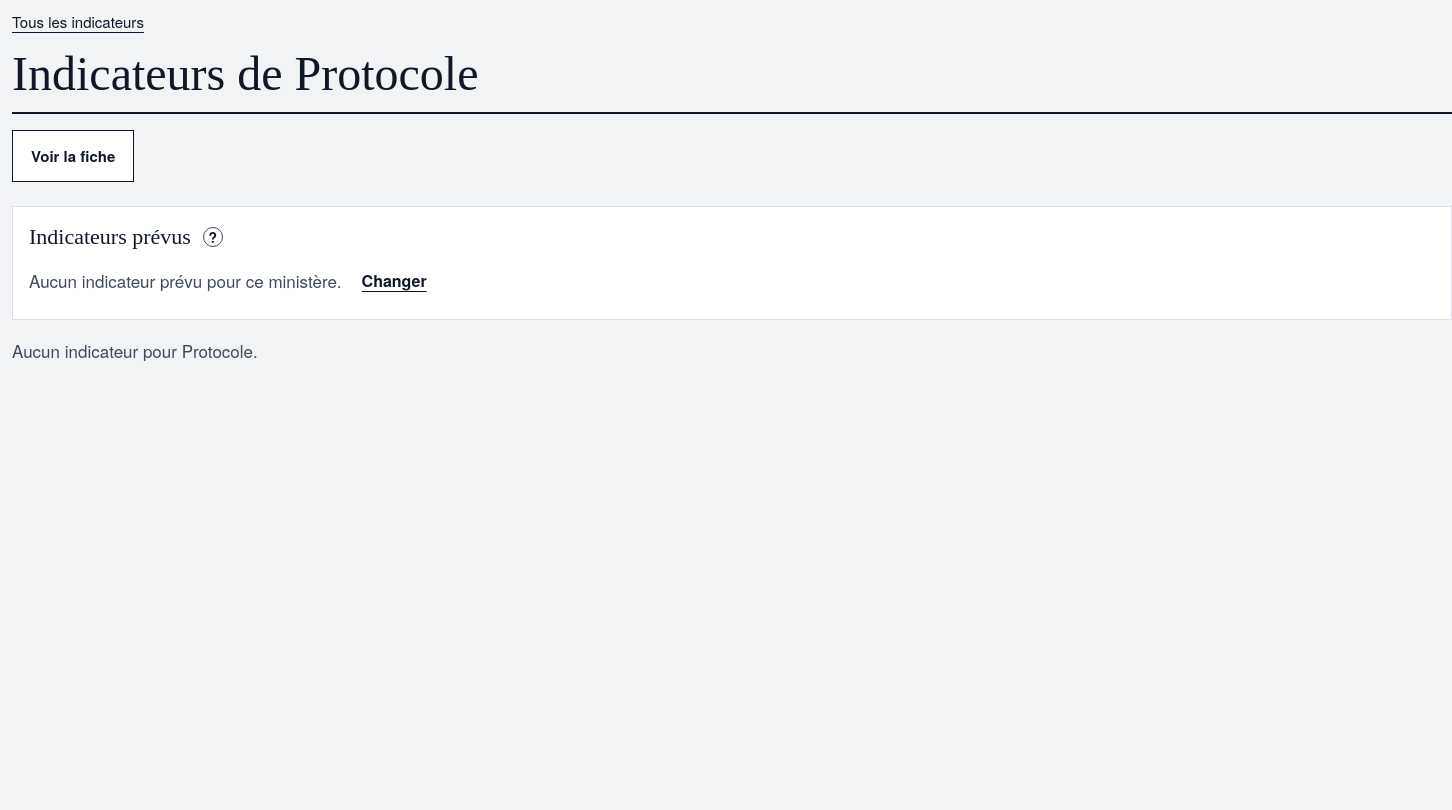
Test: VueIndicateursMinistere : bloc « Indicateurs prévus » › « Aucun prévu » enregistré : la phrase et « Changer », qui rouvre le choix, puis « Annuler »
Expected: the text "Aucun indicateur prévu pour ce ministère." is shown, top-left (29, 268), bottom-right (342, 293)
Step 1. Click the button "Changer" → (394, 280), box top-left (362, 258), bottom-right (427, 302)
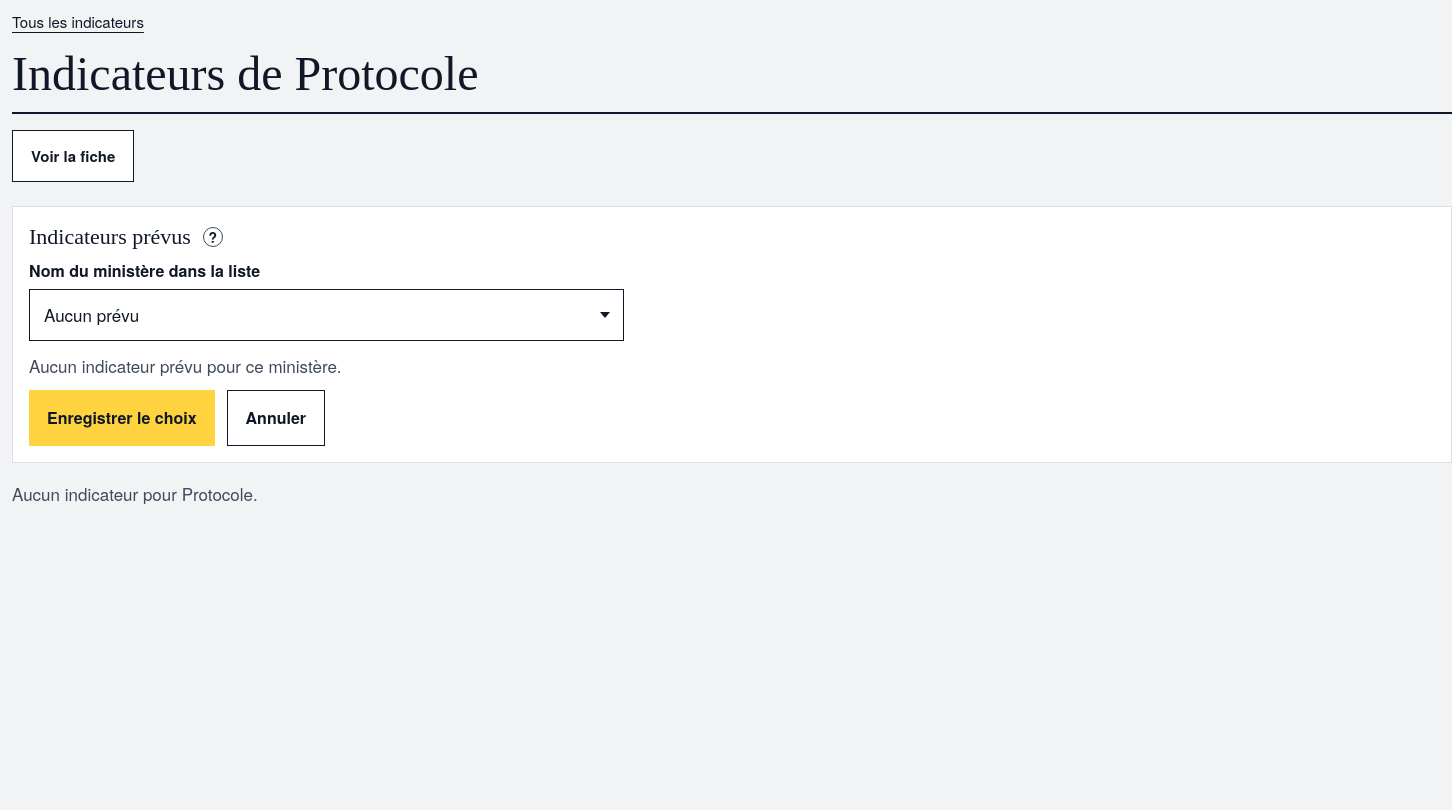
Result: the dropdown labelled "Nom du ministère dans la liste" shows "Aucun prévu" at top-left (29, 288), bottom-right (624, 340)
Note: « Annuler » referme le choix sans rien enregistrer.
Step 2. Click the button "Annuler" → (276, 418), box top-left (227, 390), bottom-right (325, 446)
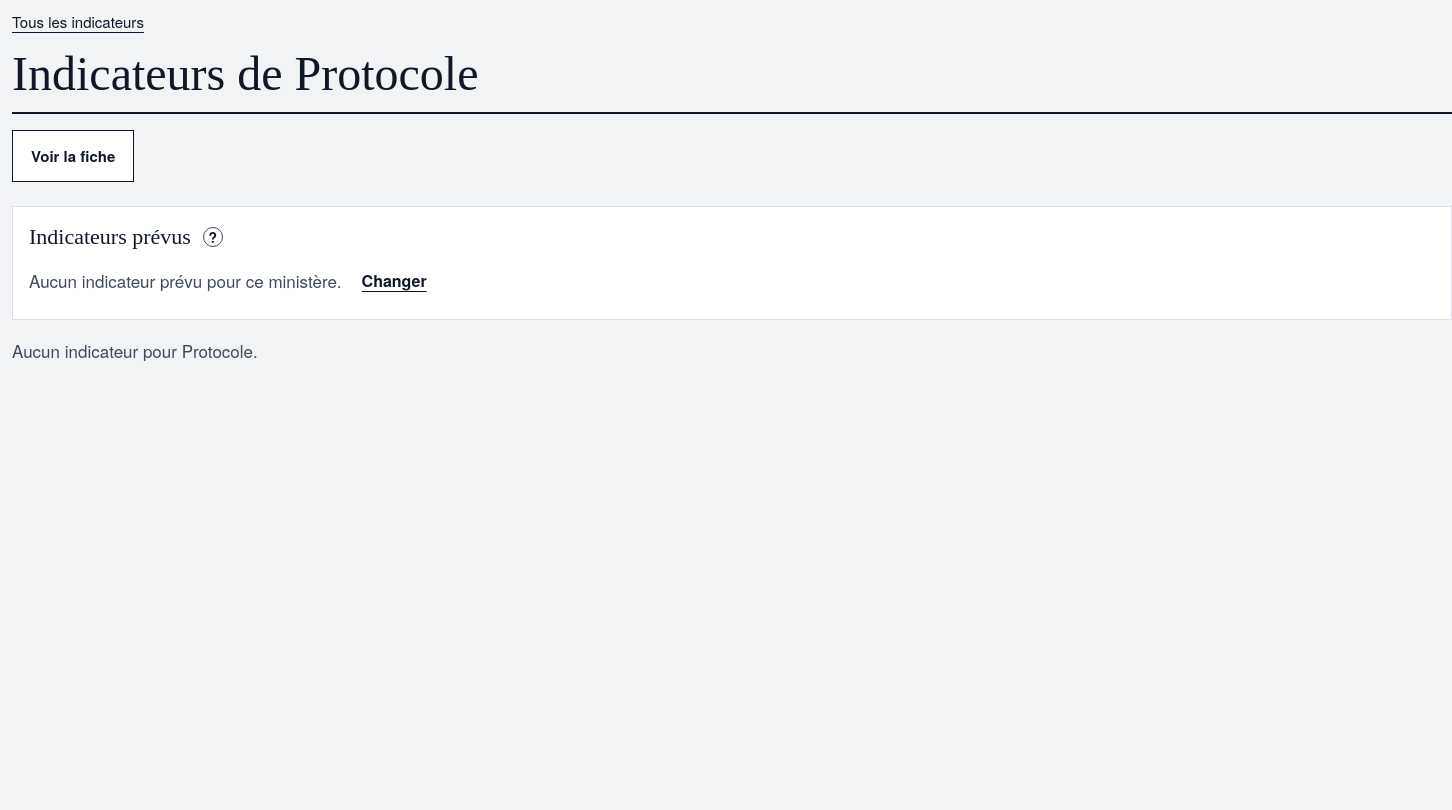
Result: the dropdown is gone
Note: Puis une liste, enregistrée : le choix se referme quand la base l'accepte.
Step 3. Click the button "Changer" → (394, 280), box top-left (362, 258), bottom-right (427, 302)
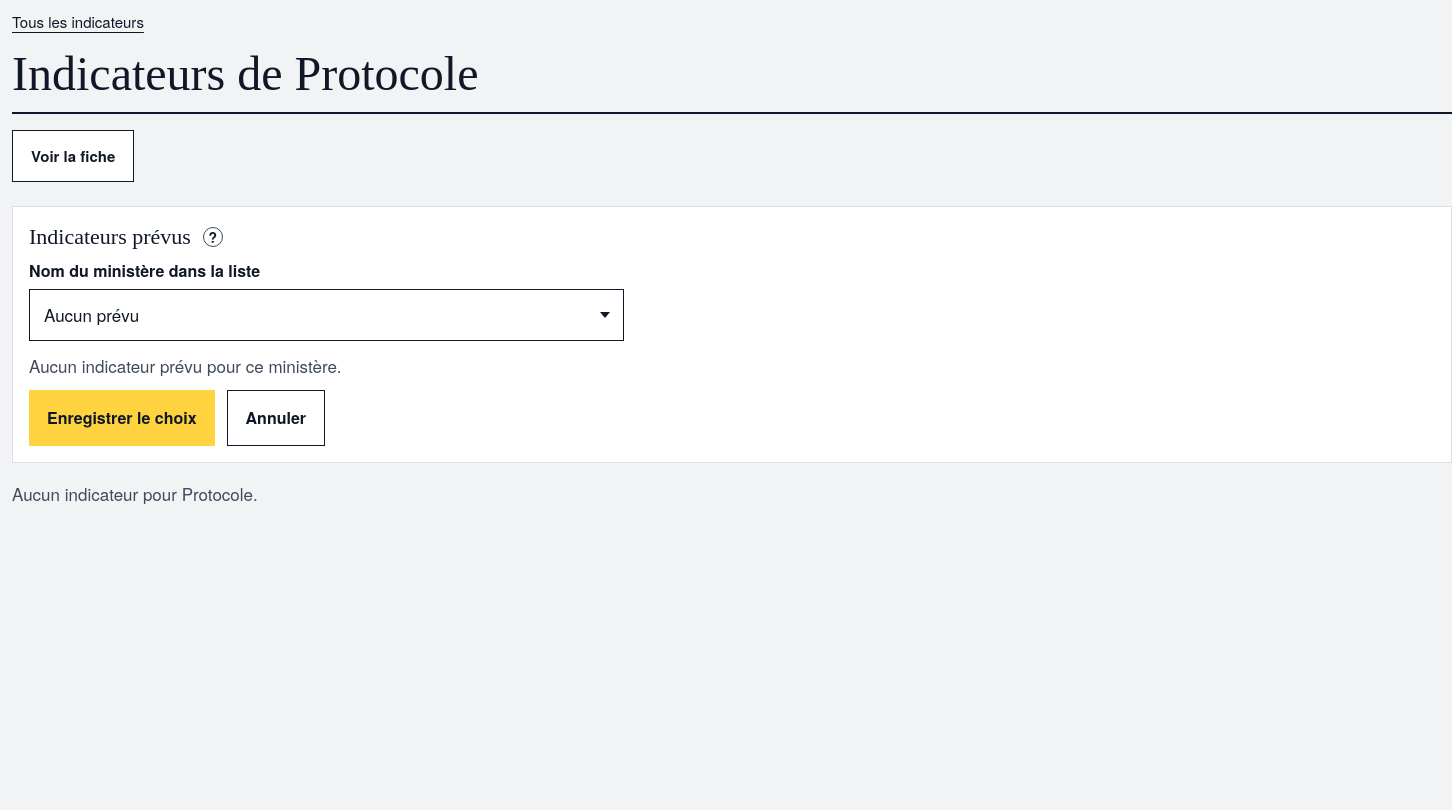
Step 4. Select "Film" in the dropdown labelled "Nom du ministère dans la liste" → (326, 314), box top-left (29, 288), bottom-right (624, 340)
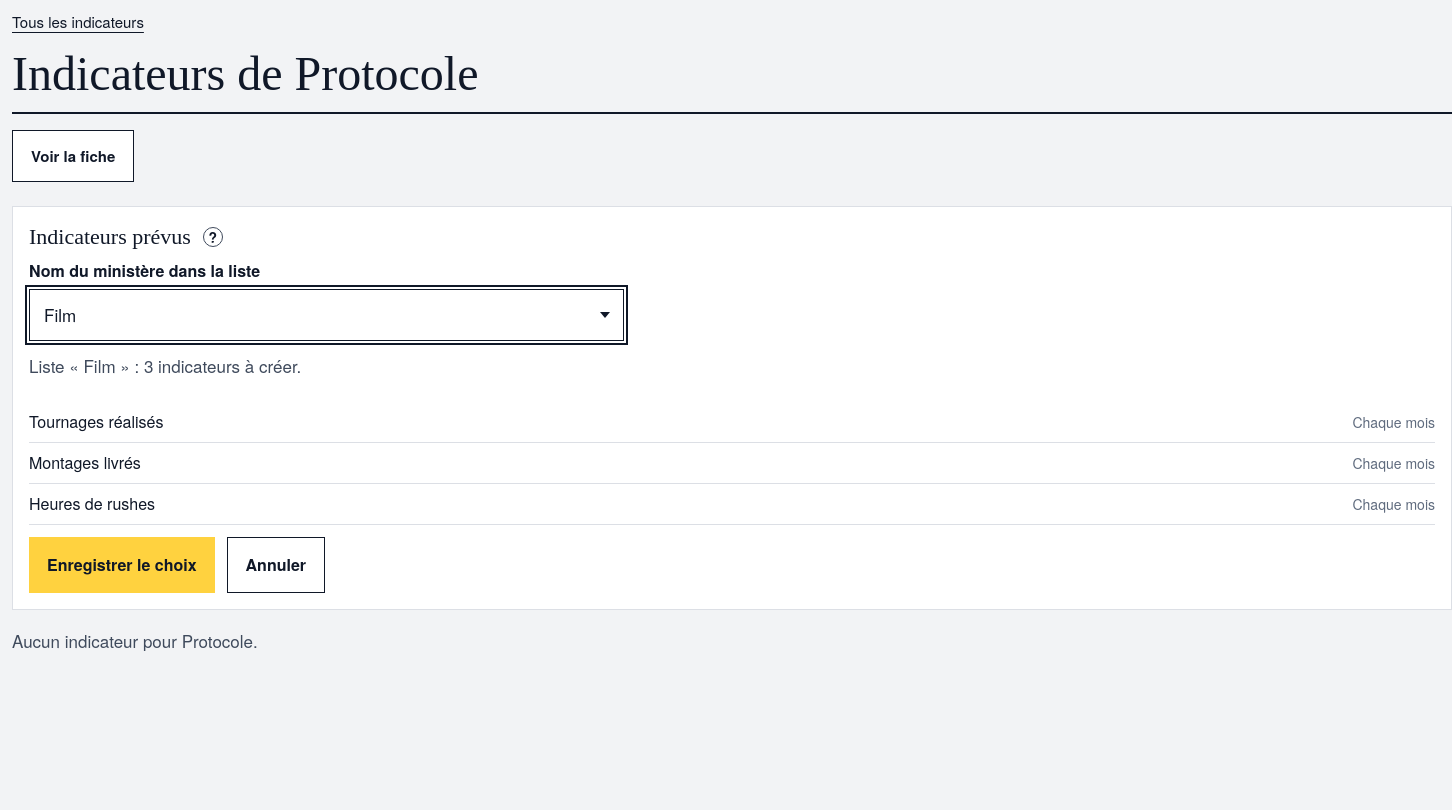
Step 5. Click the button named "Enregistrer le choix" → (122, 565), box top-left (29, 537), bottom-right (215, 593)
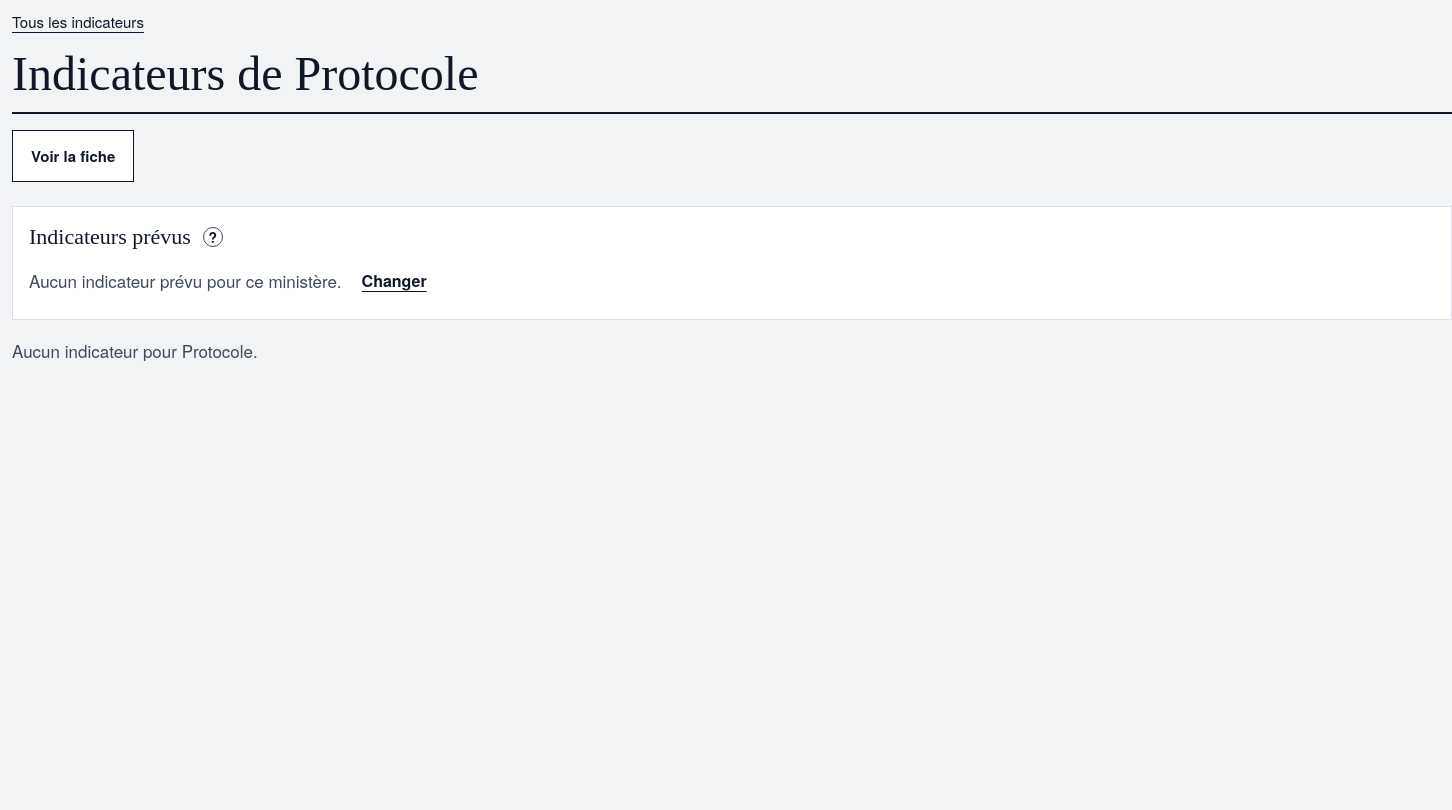
Result: the dropdown is gone
